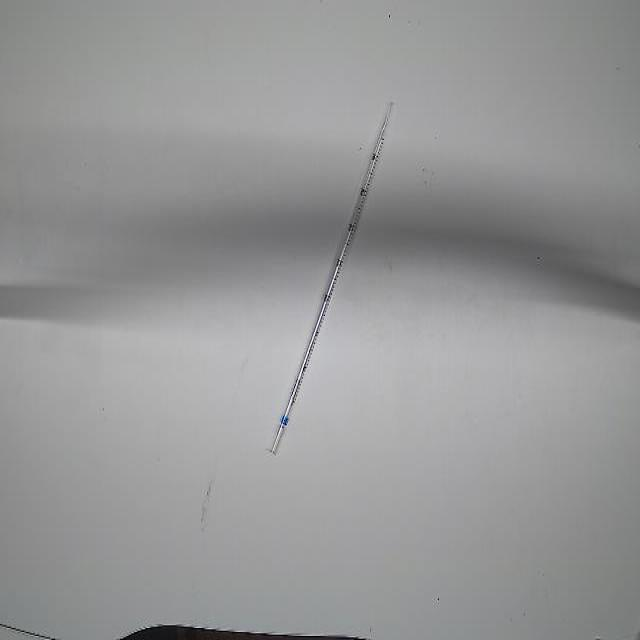Serelogical Pipet 5 mL: (267, 98, 397, 457)
